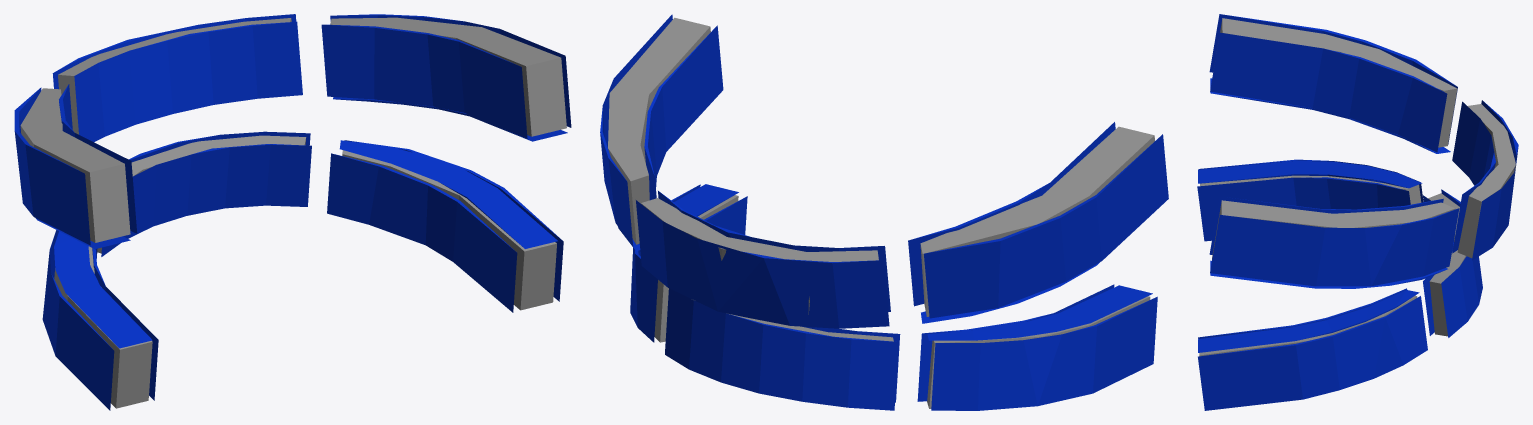
Rendered from DENT.fbx.
The picture shows the model from 3 angles, left to right: view 1: azimuth 30°, elevation 25°; view 2: azimuth 150°, elevation 25°; view 3: azimuth 270°, elevation 25°; orthographic projection. The views are drawn at different scales.
Visible parts, largest first — view 1: up_devant_interior, up_right_interior, down_right_interior, down_devant_interior, Circle.019, Circle.021, up_left_exterior, down_right_up, down_left_exterior, down_left_up, Circle, Circle.002 (+9 smaller); view 2: up_left_exterior, down_devant_exterior, up_devant_exterior, down_left_exterior, Circle.021, Circle.019, up_right_interior, down_left_up, Circle.020, up_right_exterior, up_left_interior, down_right_exterior (+9 smaller); view 3: up_left_interior, up_right_exterior, down_right_exterior, down_left_interior, Circle.019, Circle.021, down_left_up, down_right_up, up_devant_interior, Circle.020, down_devant_exterior, up_devant_exterior (+10 smaller).
Boxes of the visible parts, x1,y1,x2,y2 form: up_devant_interior: (74,21,302,141); up_right_interior: (321,24,527,138); down_right_interior: (327,153,517,312); down_devant_interior: (101,144,311,256); Circle.019: (20,88,130,242); Circle.021: (330,17,566,136); up_left_exterior: (14,87,90,245); down_right_up: (339,140,557,248); down_left_exterior: (42,230,114,410); down_left_up: (54,231,152,348); Circle: (342,150,556,310); Circle.002: (54,246,152,408); up_left_exterior: (924,134,1168,318); down_devant_exterior: (665,288,898,410); up_devant_exterior: (636,200,889,328); down_left_exterior: (931,296,1157,410); Circle.021: (608,17,710,244); Circle.019: (920,126,1154,316); up_right_interior: (644,25,723,200); down_left_up: (927,285,1152,340); Circle.020: (641,198,878,314); up_right_exterior: (600,14,672,246); up_left_interior: (908,122,1115,306); down_right_exterior: (630,184,700,342); up_left_interior: (1210,32,1447,152); up_right_exterior: (1210,208,1459,286); down_right_exterior: (1198,296,1427,410); down_left_interior: (1197,177,1410,241); Circle.019: (1220,18,1457,147); Circle.021: (1212,200,1455,259); down_left_up: (1198,161,1422,188); down_right_up: (1198,290,1419,352); up_devant_interior: (1452,101,1495,253); Circle.020: (1457,104,1516,258); down_devant_exterior: (1441,189,1482,337); up_devant_exterior: (1472,100,1518,260).
Size of the model in its own units: 749 by 352 by 506.
